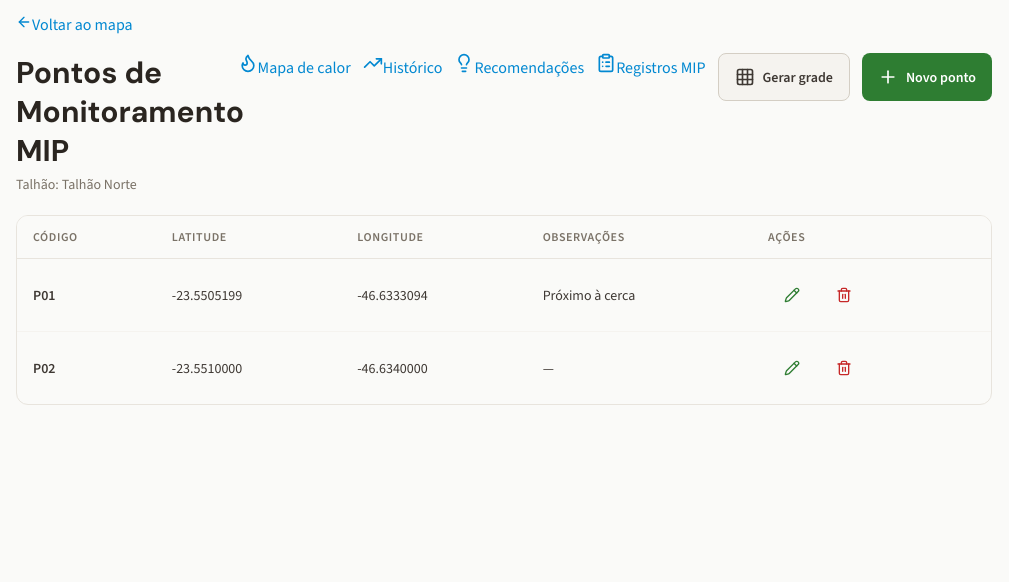
Test case: MonitoringPointsPage › should show grid generation form when "Gerar grade" clicked
Click the button "Gerar grade" at [784, 77], box [718,53,850,101]
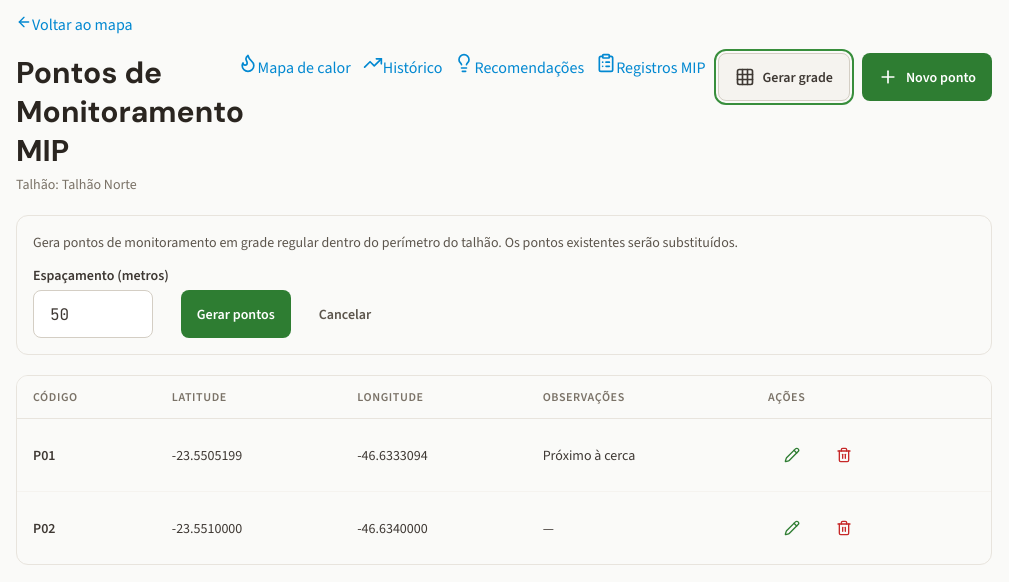
Expected: the text "Gera pontos de monitoramento em grade regular" is shown, [33,233,738,252]
Expected: the number field labelled "Espaçamento (metros)" is shown, [33,290,153,338]
